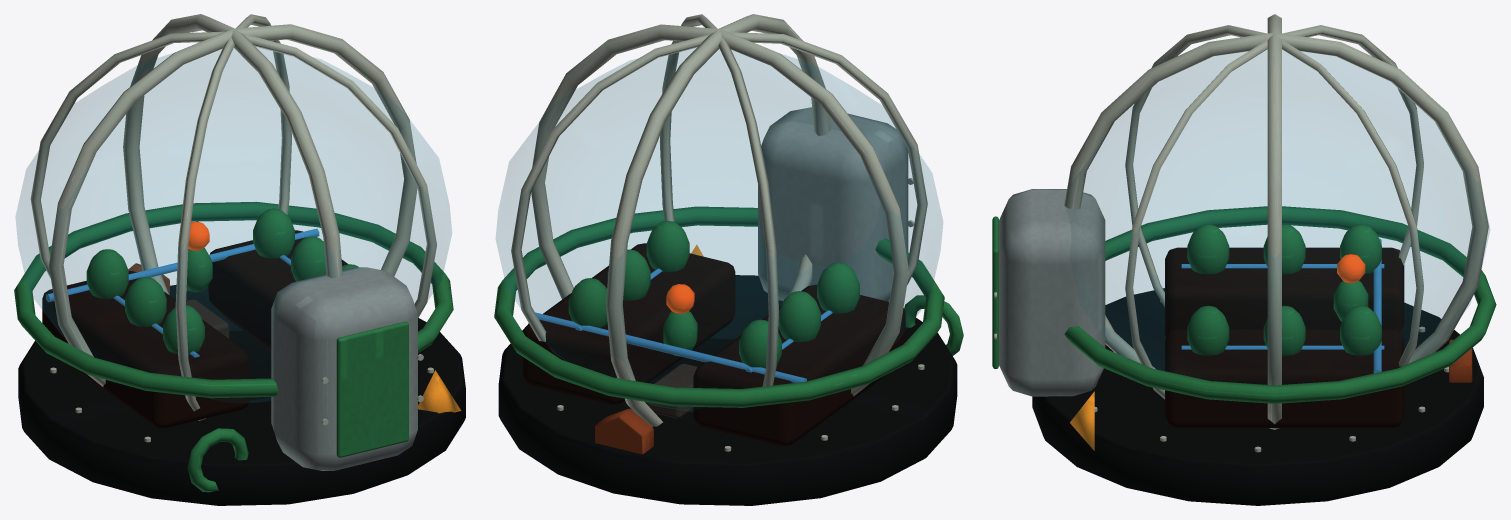
File: greenhouse-standard.glb
3 views of the same model, side by side, from view 1: azimuth 30°, elevation 25°; view 2: azimuth 150°, elevation 25°; view 3: azimuth 270°, elevation 25° (orthographic). The views are drawn at different scales.
Visible parts, largest first — view 1: Greenhouse_Glass, Greenhouse_Foundation, Greenhouse_Airlock, Greenhouse_Base_Rib, Planter_-1, Greenhouse_Rib_A, Greenhouse_Rib_B, Greenhouse_Door, Greenhouse_Rib_D, Greenhouse_Rib_C, Planter_1, CROP_SOCKET_L_2 (+10 smaller); view 2: Greenhouse_Glass, Greenhouse_Foundation, Greenhouse_Airlock, Greenhouse_Base_Rib, Planter_-1, Greenhouse_Rib_A, Planter_1, Greenhouse_Rib_B, Greenhouse_Rib_C, Greenhouse_Rib_D, PORT_Material.006, Greenhouse_Irrigation_Header (+10 smaller); view 3: Greenhouse_Glass, Greenhouse_Foundation, Greenhouse_Airlock, Greenhouse_Base_Rib, Planter_1, Greenhouse_Rib_B, Planter_-1, Greenhouse_Rib_C, Greenhouse_Rib_A, Greenhouse_Rib_D, CROP_SOCKET_L_0, CROP_SOCKET_R_0 (+10 smaller).
Part boxes in pixels (<box>): Greenhouse_Glass: <box>16,47,451,402</box>; Greenhouse_Foundation: <box>18,284,465,505</box>; Greenhouse_Airlock: <box>271,267,417,470</box>; Greenhouse_Base_Rib: <box>14,201,453,398</box>; Planter_-1: <box>42,271,249,428</box>; Greenhouse_Rib_A: <box>49,24,417,386</box>; Greenhouse_Rib_B: <box>123,14,342,294</box>; Greenhouse_Door: <box>336,321,408,457</box>; Greenhouse_Rib_D: <box>30,31,436,317</box>; Greenhouse_Rib_C: <box>175,14,291,420</box>; Planter_1: <box>208,230,348,350</box>; CROP_SOCKET_L_2: <box>86,249,128,298</box>; Greenhouse_Glass: <box>496,48,942,411</box>; Greenhouse_Foundation: <box>498,275,957,505</box>; Greenhouse_Airlock: <box>758,107,908,301</box>; Greenhouse_Base_Rib: <box>494,206,944,407</box>; Planter_-1: <box>693,284,905,446</box>; Greenhouse_Rib_A: <box>531,24,908,396</box>; Planter_1: <box>523,243,735,404</box>; Greenhouse_Rib_B: <box>606,14,831,426</box>; Greenhouse_Rib_C: <box>511,32,927,341</box>; Greenhouse_Rib_D: <box>660,14,778,386</box>; PORT_Material.006: <box>595,408,653,454</box>; Greenhouse_Irrigation_Header: <box>535,312,806,382</box>; Greenhouse_Glass: <box>1083,50,1489,370</box>; Greenhouse_Foundation: <box>1032,288,1483,505</box>; Greenhouse_Airlock: <box>999,189,1105,396</box>; Greenhouse_Base_Rib: <box>1064,206,1496,403</box>; Planter_1: <box>1165,329,1404,427</box>; Greenhouse_Rib_B: <box>1064,32,1488,369</box>; Planter_-1: <box>1165,247,1404,337</box>; Greenhouse_Rib_C: <box>1125,25,1423,366</box>; Greenhouse_Rib_A: <box>1267,14,1281,429</box>; Greenhouse_Rib_D: <box>1125,25,1423,399</box>; CROP_SOCKET_L_0: <box>1187,224,1229,274</box>; CROP_SOCKET_R_0: <box>1187,305,1229,355</box>.
Bounding box in the file's own units: 1.36 × 1.29 × 1.52.
Materials: 11 (11 with a texture image).
